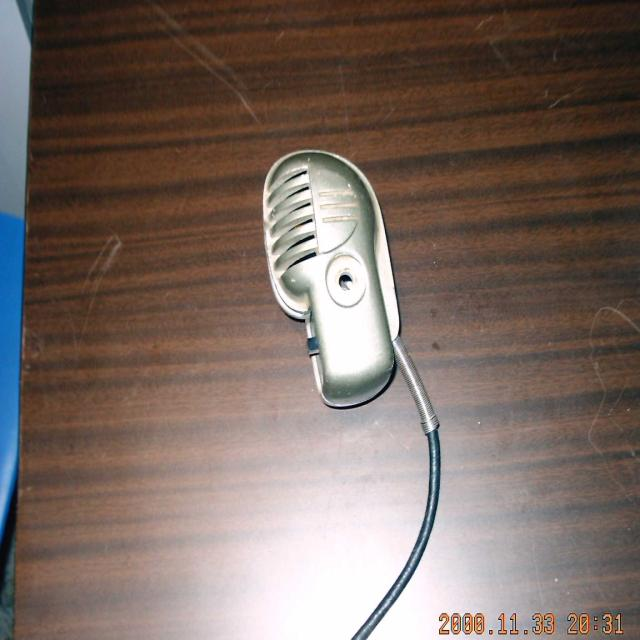microphone: (262, 148, 401, 406)
